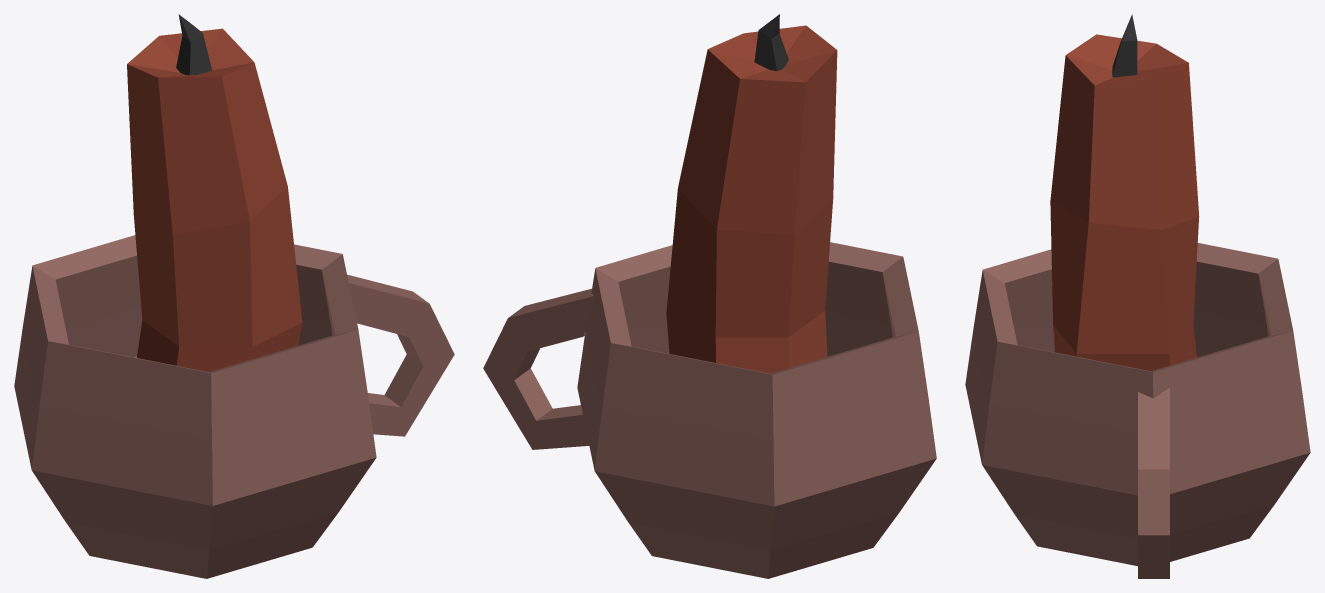
File: Candle_3_Red.fbx
3 renders of one model, left to right at view 1: azimuth 30°, elevation 25°; view 2: azimuth 150°, elevation 25°; view 3: azimuth 270°, elevation 25°, orthographic. The views are drawn at different scales.
Visible parts, largest first — view 1: Candle_3_Red_Part_3, Candle_3_Red_Part_1, Candle_3_Red_Part_2; view 2: Candle_3_Red_Part_3, Candle_3_Red_Part_1, Candle_3_Red_Part_2; view 3: Candle_3_Red_Part_3, Candle_3_Red_Part_1, Candle_3_Red_Part_2.
Boxes of the visible parts, box(x1,y1,x2,y2) form: Candle_3_Red_Part_3: box(14, 235, 454, 578); Candle_3_Red_Part_1: box(127, 28, 302, 371); Candle_3_Red_Part_2: box(176, 14, 212, 75); Candle_3_Red_Part_3: box(483, 242, 936, 578); Candle_3_Red_Part_1: box(666, 25, 837, 373); Candle_3_Red_Part_2: box(754, 14, 788, 70); Candle_3_Red_Part_3: box(965, 243, 1310, 578); Candle_3_Red_Part_1: box(1050, 34, 1199, 371); Candle_3_Red_Part_2: box(1112, 14, 1137, 77).
Size of the model in its own units: 14.82 by 16.98 by 10.77.
